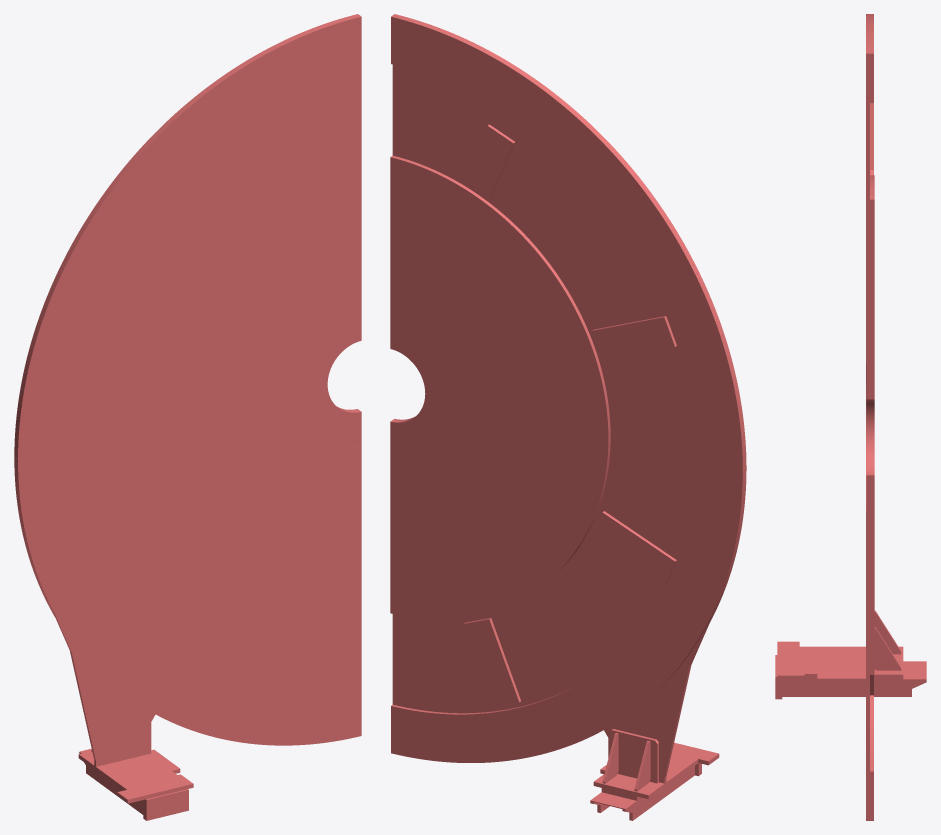
Rendered from Small-Wheel-NJD-SideA-cut2.glb.
3 renders of one model, left to right at view 1: azimuth 30°, elevation 25°; view 2: azimuth 150°, elevation 25°; view 3: azimuth 270°, elevation 25°, orthographic. The views are drawn at different scales.
Parts seen in each view (by area): view 1: null; view 2: null; view 3: null.
Part boxes in pixels (x1,y1,x2,y2): null: (14, 14, 361, 820); null: (390, 14, 746, 820); null: (775, 14, 926, 820).
Bounding box in the file's own units: 4.36 × 8.72 × 1.56.
